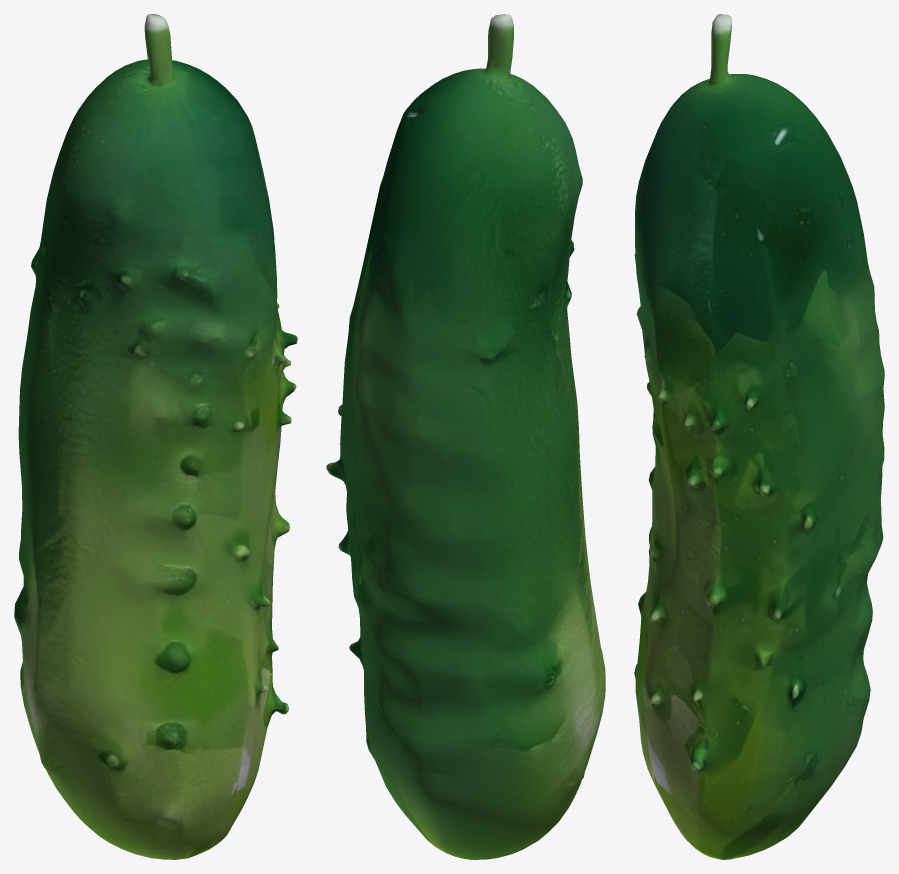
Rendered from cucumber.glb.
3 renders of one model, left to right at view 1: azimuth 30°, elevation 25°; view 2: azimuth 150°, elevation 25°; view 3: azimuth 270°, elevation 25°, orthographic. The views are drawn at different scales.
Visible parts, largest first — view 1: Cucumber; view 2: Cucumber; view 3: Cucumber.
Part boxes in pixels (x1,y1,x2,y2): Cucumber: (14, 14, 297, 859); Cucumber: (326, 14, 605, 859); Cucumber: (634, 14, 884, 859).
Bounding box in the file's own units: 0.6081 × 1.96 × 0.5395.
Materials: 1 (1 with a texture image).
